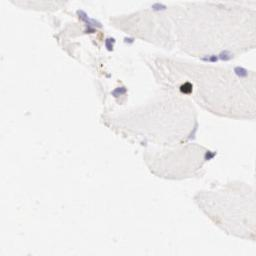nucleus: (77, 7, 104, 29), (187, 121, 199, 140), (110, 86, 128, 97), (233, 66, 247, 78), (106, 37, 116, 52), (152, 2, 168, 11), (219, 50, 233, 59), (85, 25, 97, 35), (203, 56, 219, 62), (206, 151, 216, 160), (124, 36, 135, 43)
